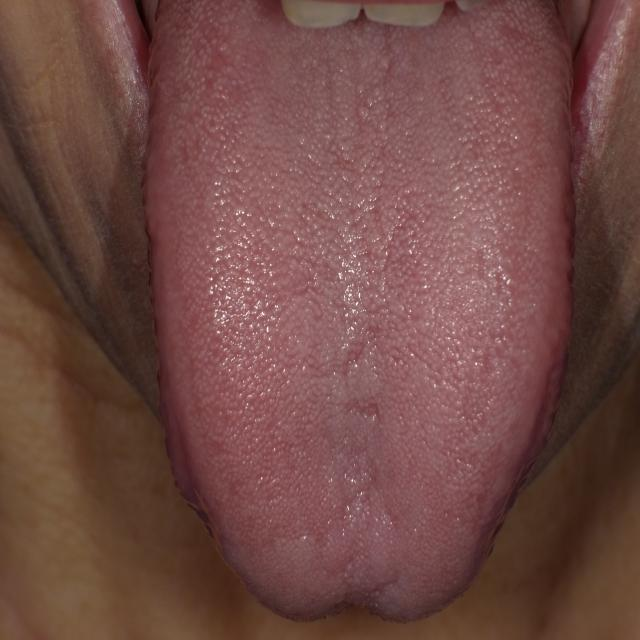baitaishe: (143, 2, 573, 622)
chihenshe: (473, 359, 564, 574)
xinfeiao: (295, 586, 407, 621)
